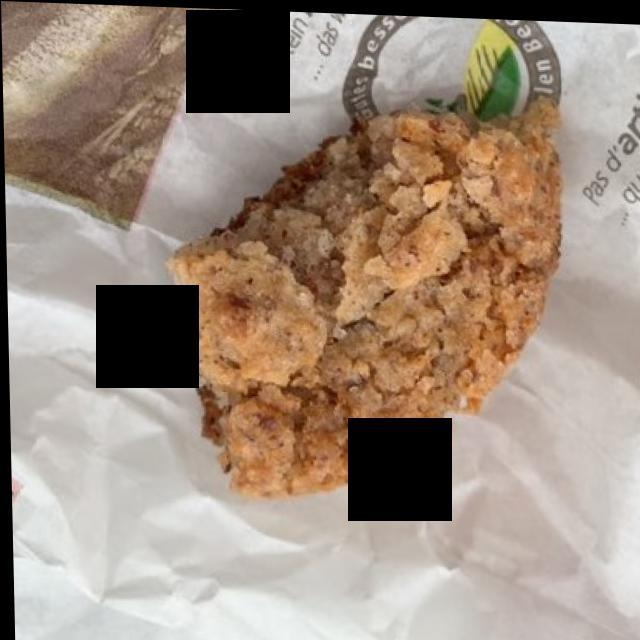hazelnut: (172, 103, 551, 492)
